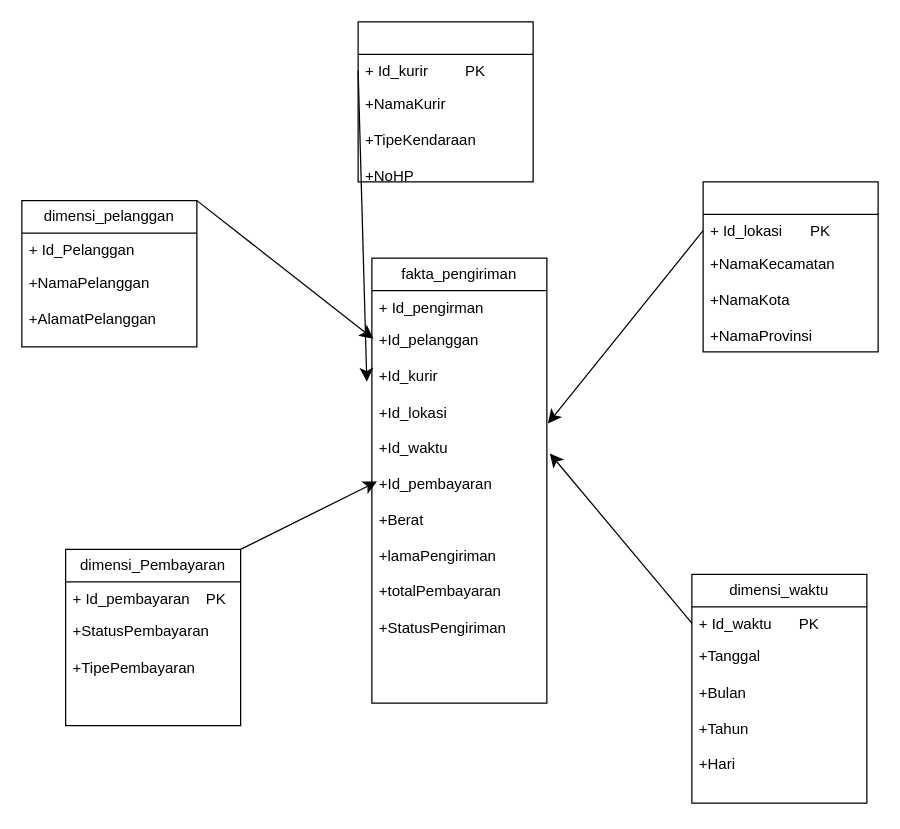
The diagram is 900 pixels wide and 829 high, and some of its shapes have lost their labels. Here are the shapes that lost their labels. From the top down, the box of each, then its label:
(357, 21, 533, 182): dimensi_kurir
(702, 181, 878, 352): dimensi_lokasi
